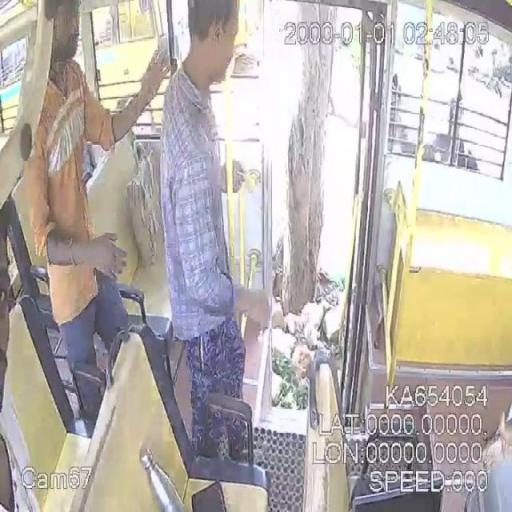persona: (15, 2, 174, 427), (158, 0, 254, 462)
